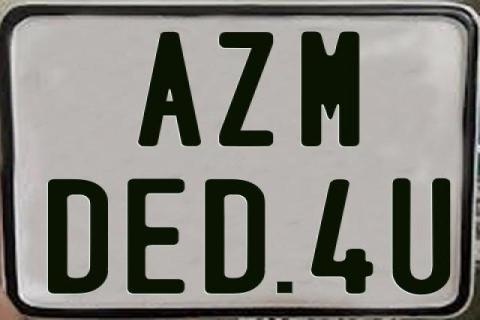0: (310, 179, 378, 296)
A: (137, 32, 205, 149)
D: (48, 177, 112, 295), (202, 177, 267, 293)
E: (126, 178, 185, 298)
M: (299, 32, 363, 152)
U: (389, 178, 449, 298)
Z: (218, 31, 278, 148)
